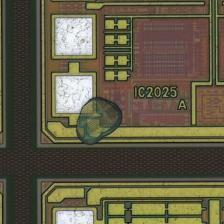COATING BAD: (75, 98, 125, 146)
